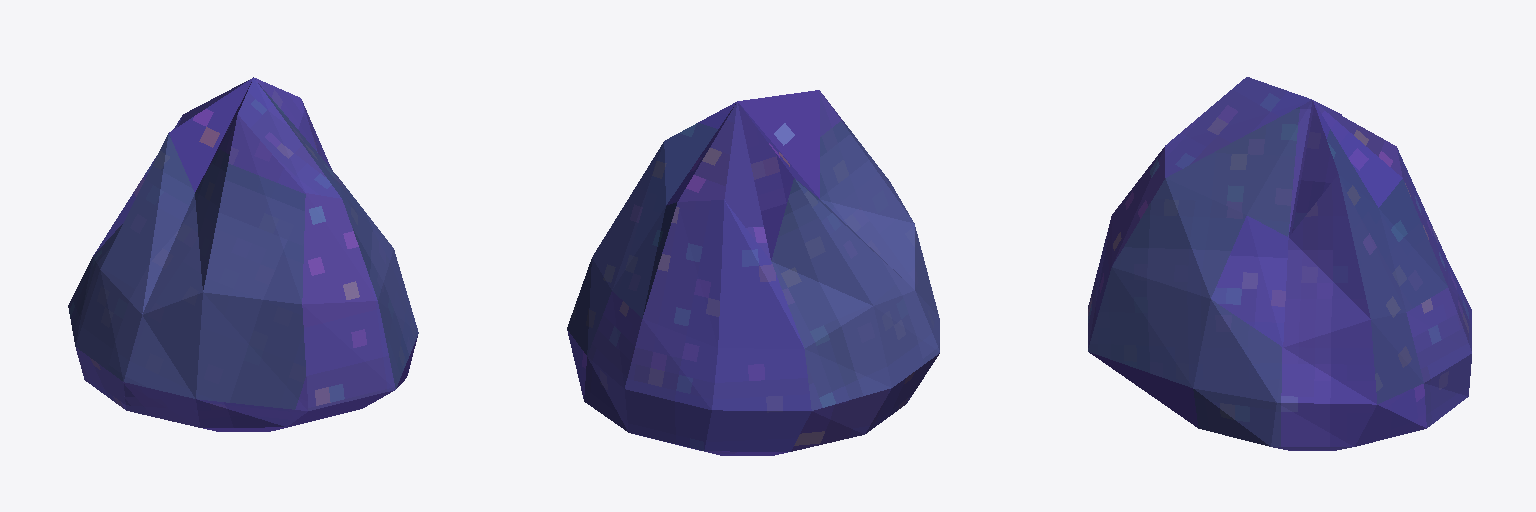
3 renders of one model, left to right at view 1: azimuth 30°, elevation 25°; view 2: azimuth 150°, elevation 25°; view 3: azimuth 270°, elevation 25°, orthographic.
Visible parts, largest first — view 1: BigRock2; view 2: BigRock2; view 3: BigRock2.
Boxes of the visible parts, x1=… form: BigRock2: x1=68, y1=77, x2=418, y2=431; BigRock2: x1=567, y1=90, x2=939, y2=455; BigRock2: x1=1088, y1=77, x2=1471, y2=450.
Bounding box in the file's own units: 1.34 × 1.38 × 1.47.
1 materials, 1 textured.